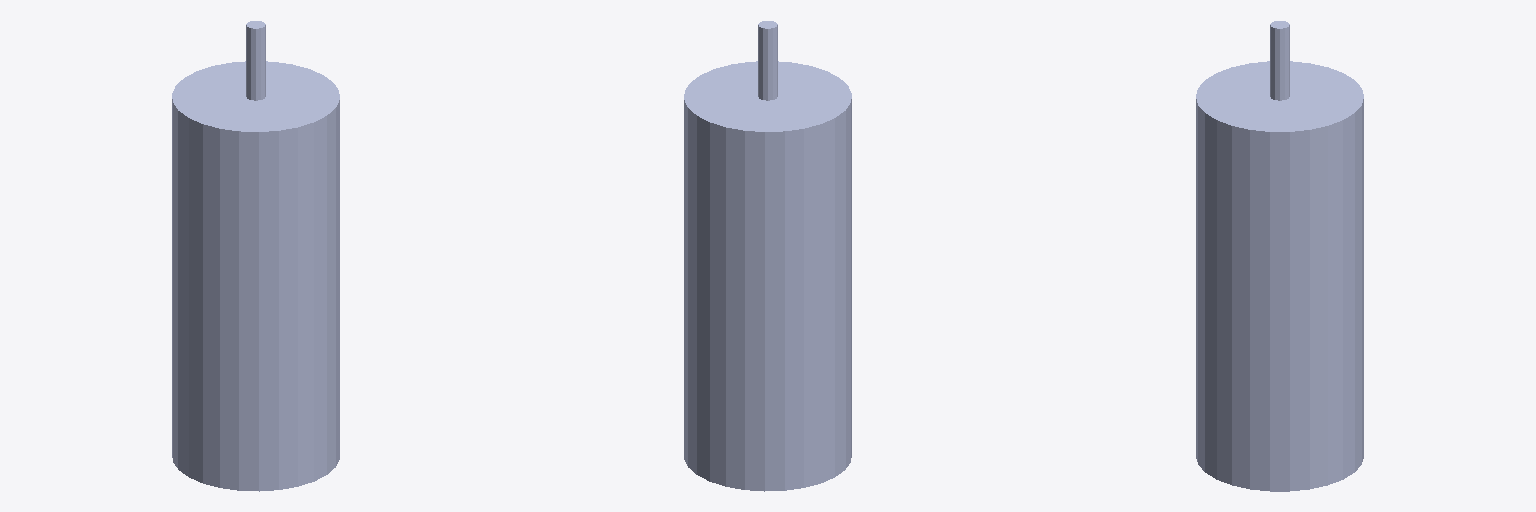
robot.urdf — coreless.SLDPRT:
<?xml version="1.0" encoding="utf-8"?>
<!-- This URDF was automatically created by SolidWorks to URDF Exporter! Originally created by [author] ([email redacted]) 
     Commit Version: 1.5.1-0-g916b5db  Build Version: 1.5.7152.31018
     For more information, please see http://wiki.ros.org/sw_urdf_exporter -->
<robot
  name="coreless.SLDPRT">
  <link
    name="coreless.URDF">
    <inertial>
      <origin
        xyz="-1.9809E-36 4.65543777394996E-19 0.010033"
        rpy="0 0 0" />
      <mass
        value="0.001138" />
      <inertia
        ixx="4.341E-08"
        ixy="3.89570000000001E-42"
        ixz="-9.3026E-41"
        iyy="4.341E-08"
        iyz="-1.6325473346375E-24"
        izz="1.025E-08" />
    </inertial>
    <visual>
      <origin
        xyz="0 0 0"
        rpy="1.5707963267949 0 0" />
      <geometry>
        <mesh
          filename="package://coreless.URDF/meshes/coreless.URDF.STL" />
      </geometry>
      <material
        name="">
        <color
          rgba="0.79216 0.81961 0.93333 1" />
        <texture
          filename="package://coreless.URDF/textures/" />
      </material>
    </visual>
    <collision>
      <origin
        xyz="0 0 0"
        rpy="1.5707963267949 0 0" />
      <geometry>
        <mesh
          filename="package://coreless.URDF/meshes/coreless.URDF.STL" />
      </geometry>
    </collision>
  </link>
</robot>

--- Facts derived from the render (not from the file) ---
Views: 3 orthographic renders of the robot side by side, from view 1: azimuth 30°, elevation 25°; view 2: azimuth 150°, elevation 25°; view 3: azimuth 270°, elevation 25°.
Robot: coreless.SLDPRT — 1 links, 0 joints (none); root link coreless.URDF; default pose: all joints at 0.
Links seen in each view (by area): view 1: coreless.URDF; view 2: coreless.URDF; view 3: coreless.URDF.
Link boxes in pixels (x1=…): coreless.URDF: x1=172, y1=21, x2=339, y2=491; coreless.URDF: x1=684, y1=21, x2=851, y2=491; coreless.URDF: x1=1196, y1=21, x2=1363, y2=491.
Size in the robot's own frame: 0.0084 by 0.0085 by 0.024 metres.
1 mesh visuals loaded from 1 distinct referenced files (1 binary STL).